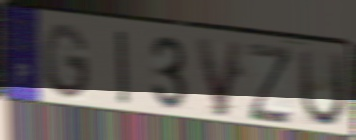3: (150, 35, 188, 113)
G: (42, 21, 91, 103)
I: (114, 27, 132, 109)
U: (296, 47, 347, 130)
V: (193, 36, 245, 120)
Z: (245, 40, 295, 127)
